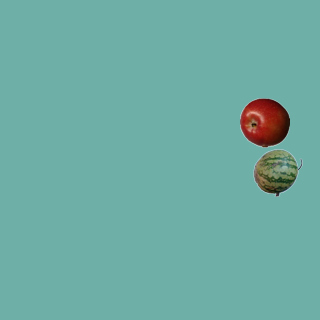Apple Braeburn: (239, 97, 289, 147)
Watermelon: (252, 147, 302, 197)
